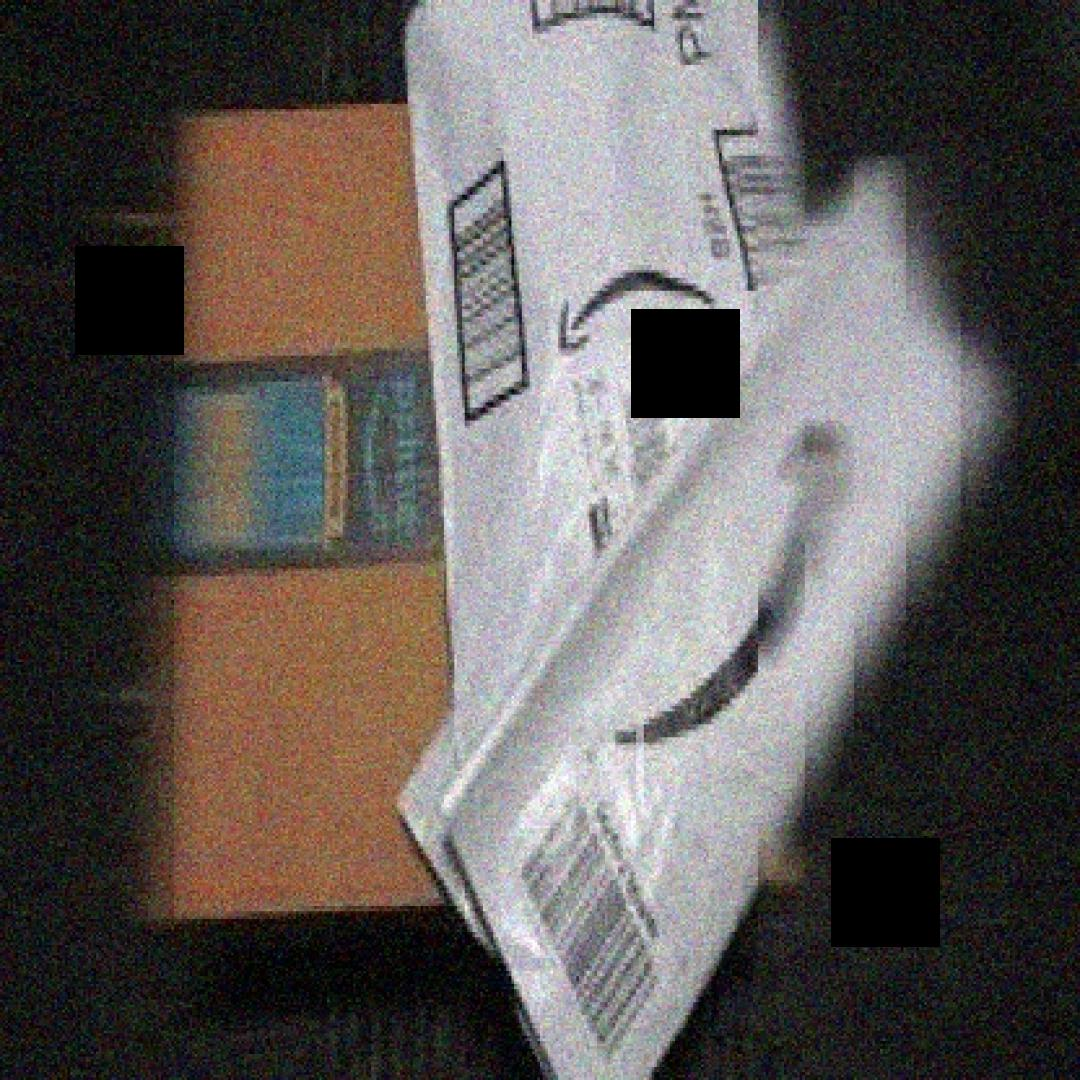package: (153, 91, 509, 956)
